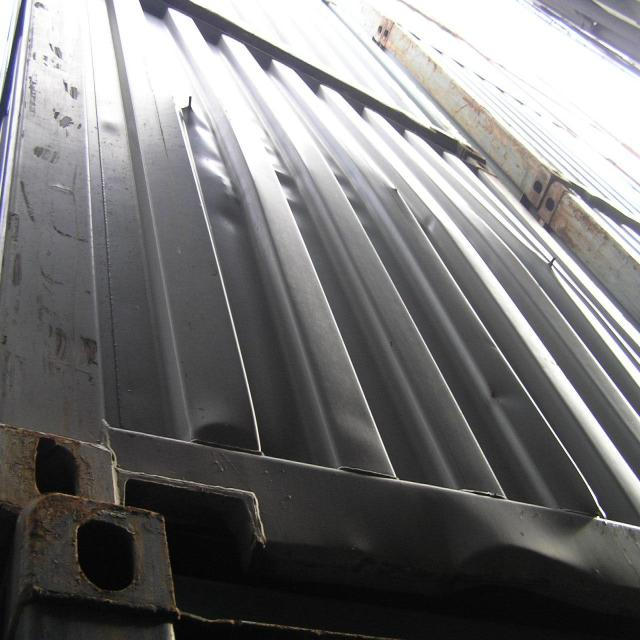dent: (187, 102, 258, 263), (465, 356, 537, 435), (326, 384, 389, 450)
